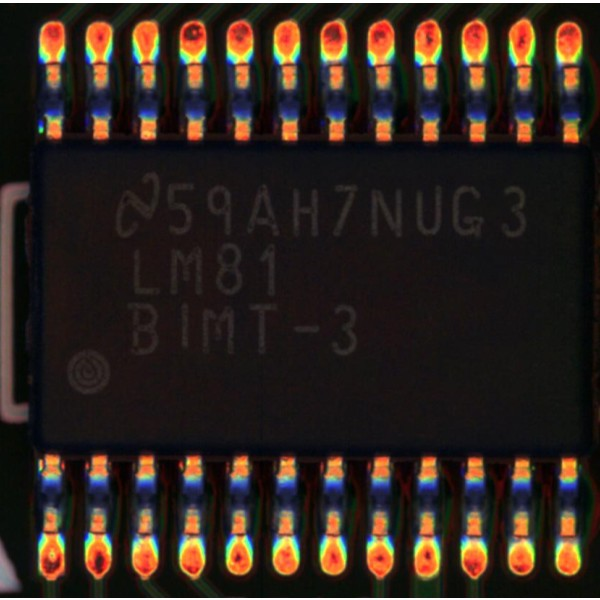Bad_podu: (44, 47, 59, 73), (140, 48, 154, 73), (233, 520, 245, 549), (375, 50, 389, 73), (329, 521, 339, 552), (45, 521, 59, 543), (564, 52, 576, 77), (95, 47, 106, 73), (425, 48, 436, 74), (516, 53, 529, 75), (92, 523, 105, 545), (561, 530, 574, 552), (469, 51, 481, 74), (140, 523, 152, 546)
